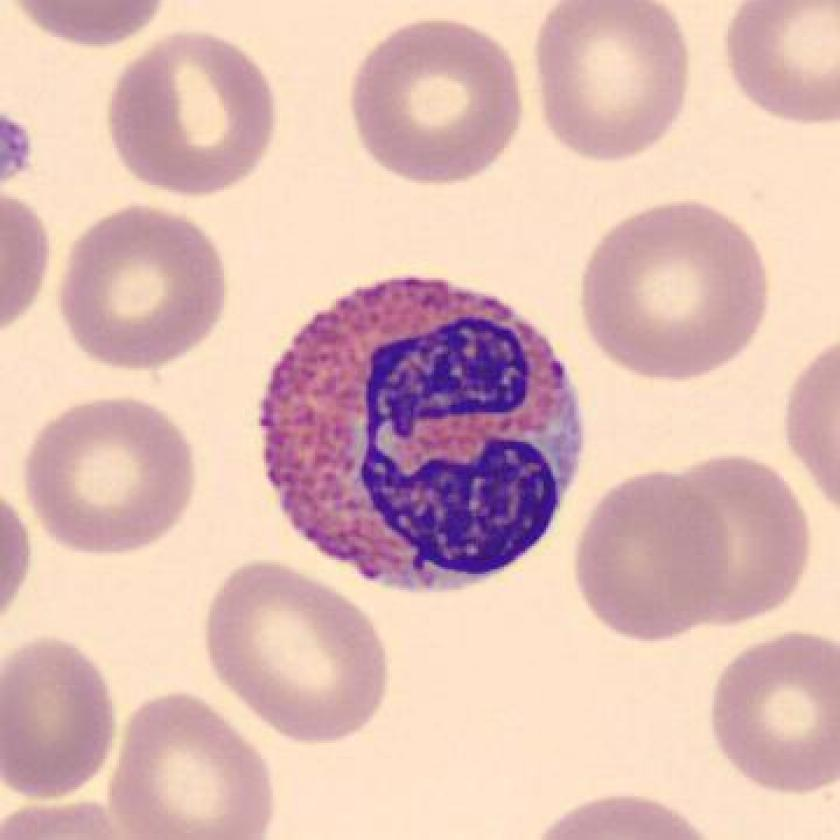eosinophil: (248, 265, 596, 600)
